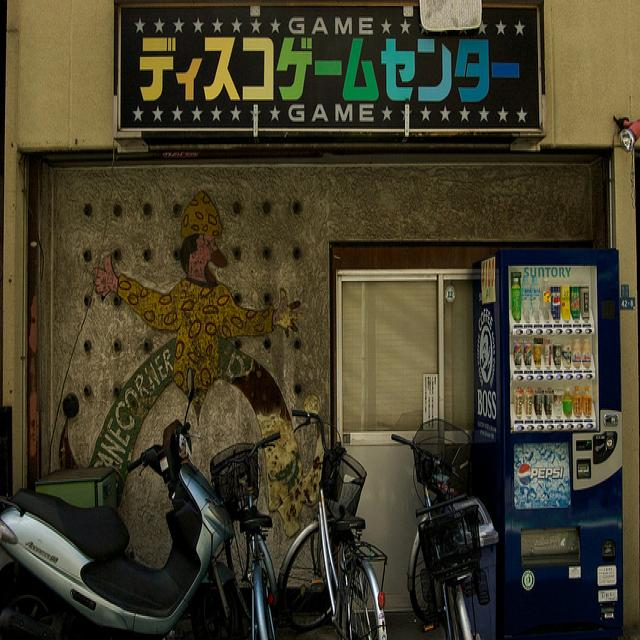motor: (2, 372, 246, 631)
